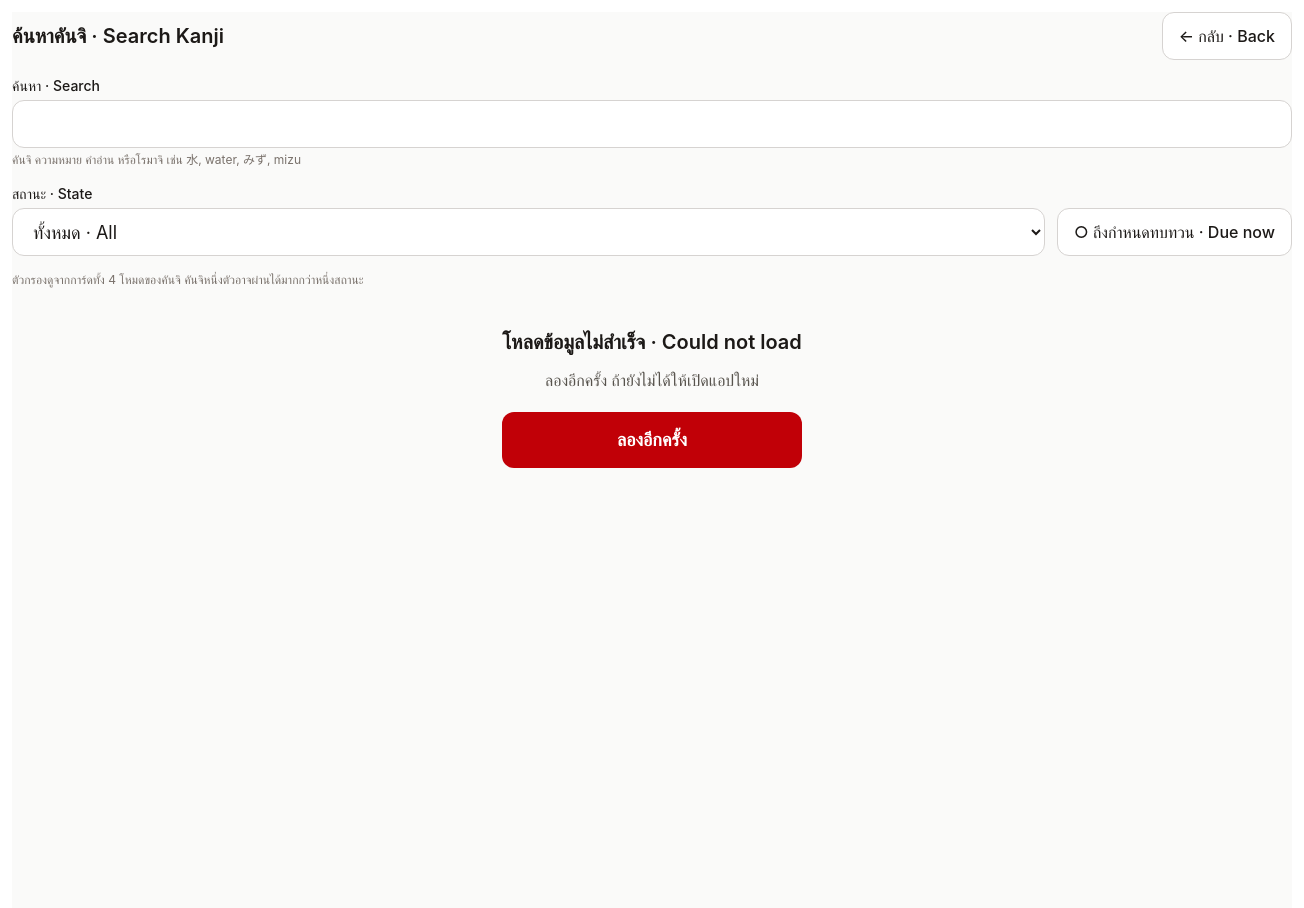
Scenario: search screen (real repositories, real dataset) › a repository failure is an error state with retry, never "not found"
The width and height of the screenshot is (1304, 908).
Check: the message shows "โหลดข้อมูลไม่สำเร็จ", box [502, 330, 802, 354]
Click the button "ลองอีกครั้ง".
click(652, 440)  # box [502, 412, 802, 468]
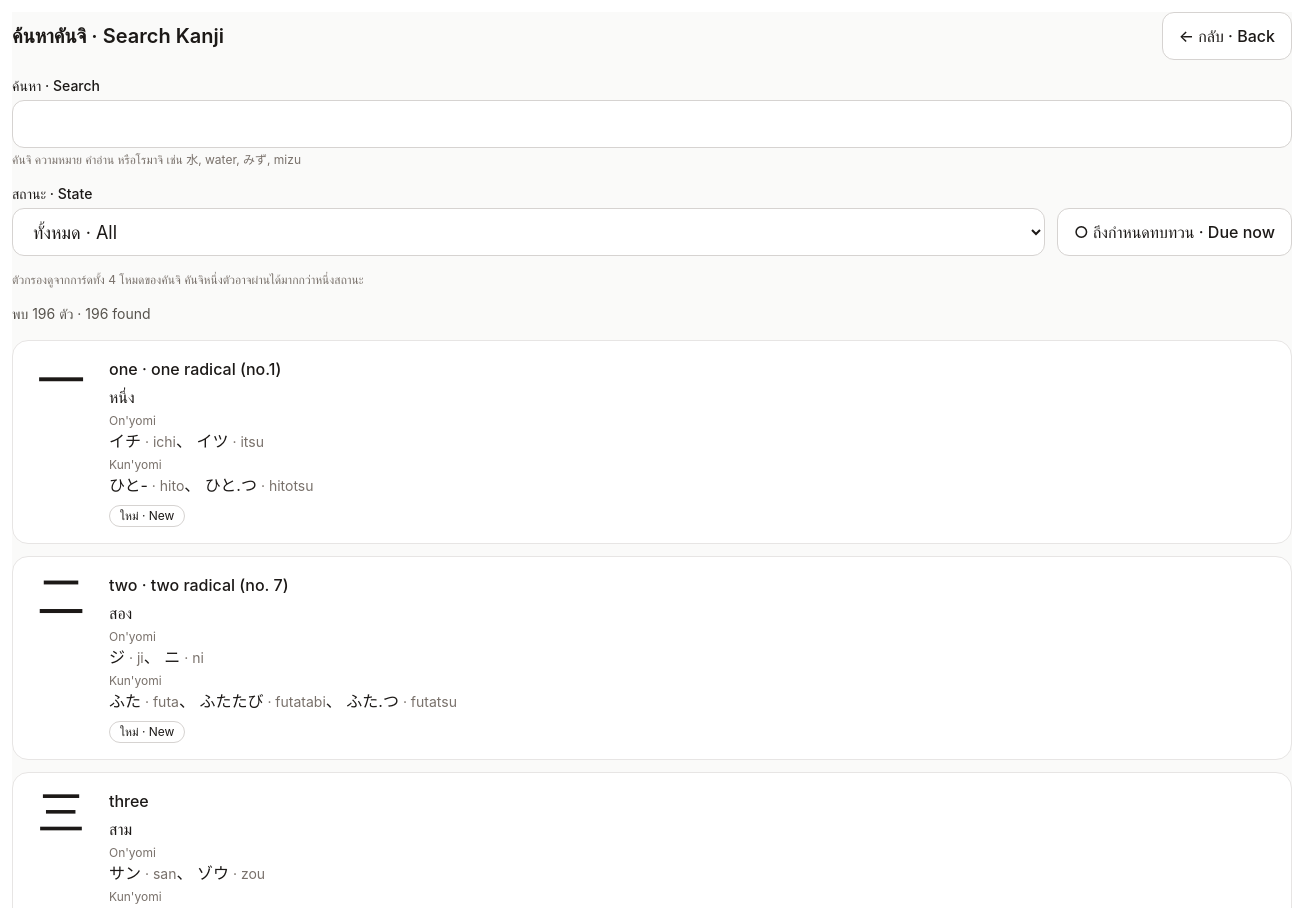
Check: the text "พบ 196 ตัว · 196 found" is shown, box [12, 305, 151, 322]
